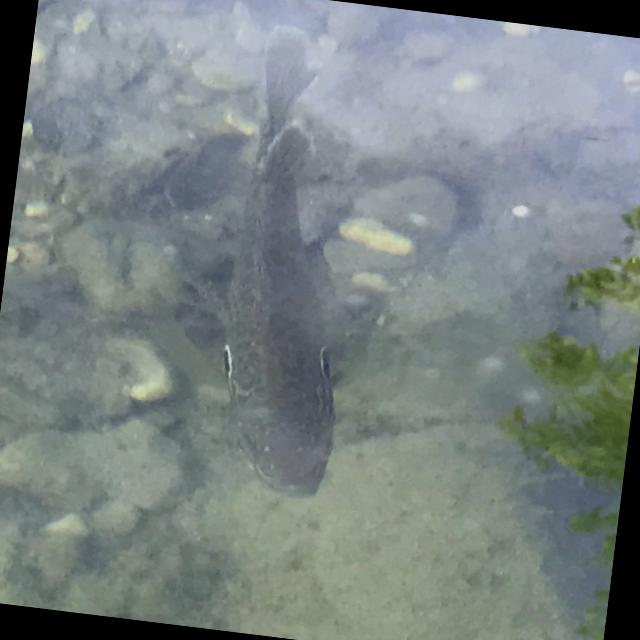Gunes Levregi: (196, 18, 386, 500)
